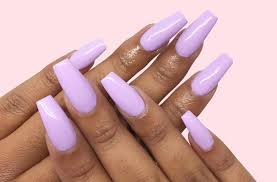nail: (35, 94, 78, 152), (53, 60, 98, 113), (99, 72, 145, 117), (175, 10, 218, 56), (190, 53, 234, 96), (140, 12, 188, 50), (180, 109, 214, 150), (70, 40, 107, 70)
